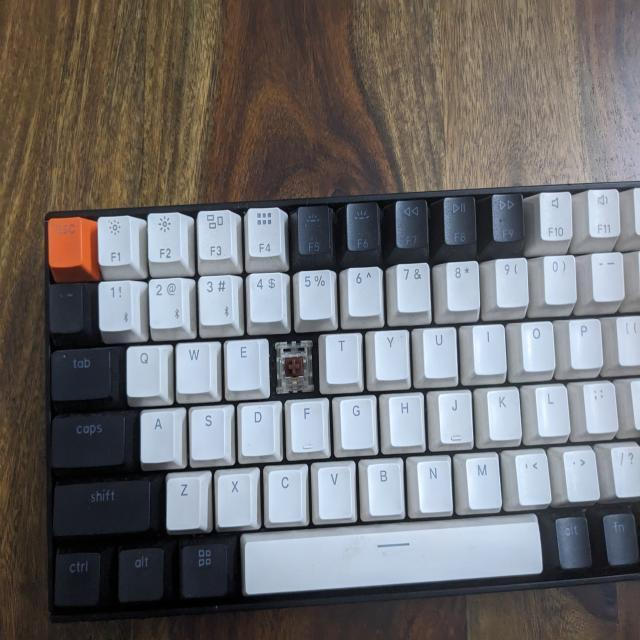key-switch: (275, 339, 315, 391)
